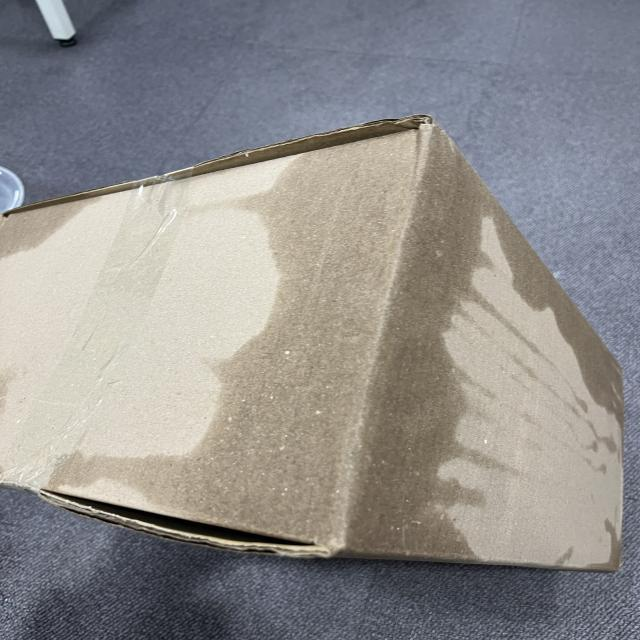wet: (258, 112, 504, 574)
